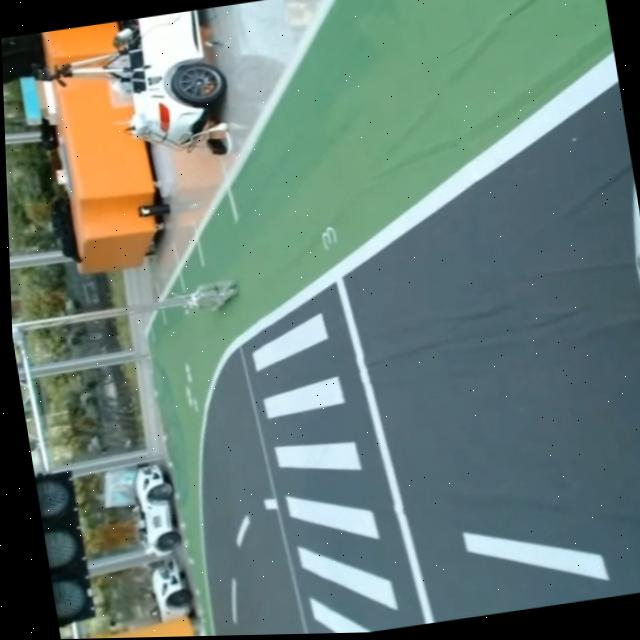traffic-light: (34, 464, 97, 631)
